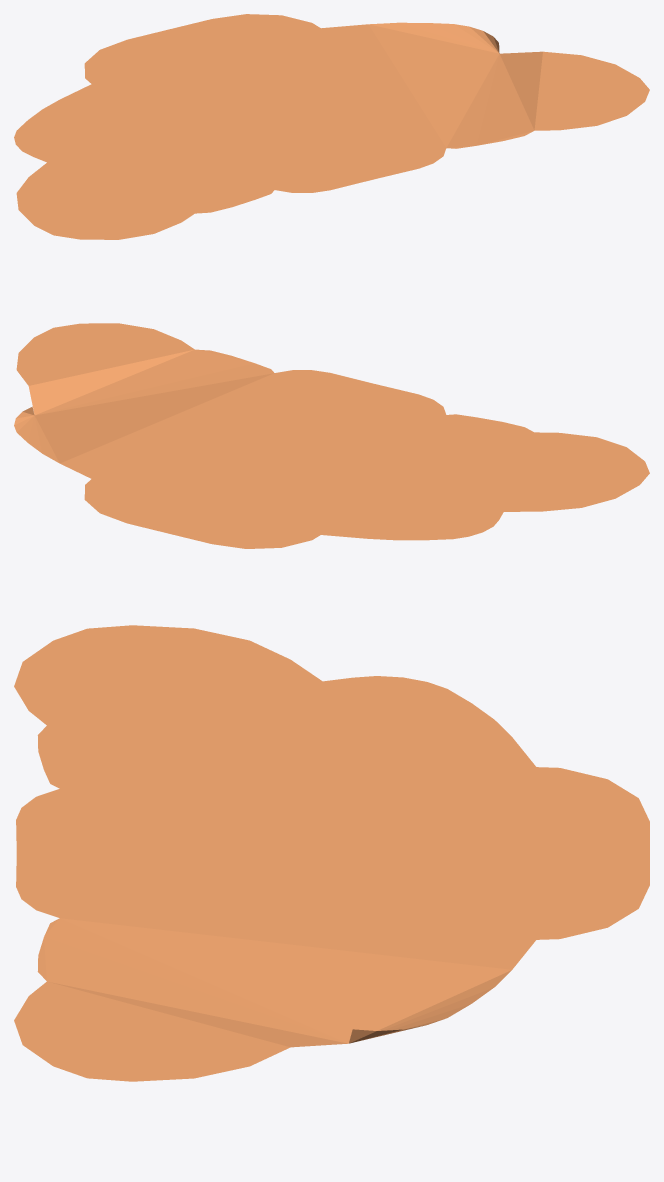
The model's file is Croissant_half_base.fbx.
The picture shows the model from 3 angles, top to bottom: view 1: azimuth 30°, elevation 25°; view 2: azimuth 150°, elevation 25°; view 3: azimuth 270°, elevation 25°; orthographic projection. The views are drawn at different scales.
Visible parts, largest first — view 1: Croissant_half_base; view 2: Croissant_half_base; view 3: Croissant_half_base.
Boxes of the visible parts, bbox=[...] form: Croissant_half_base: bbox=[14, 14, 649, 239]; Croissant_half_base: bbox=[14, 323, 649, 548]; Croissant_half_base: bbox=[14, 625, 649, 1081].
Bounding box in the file's own units: 148 × 87.34 × 15.29.
